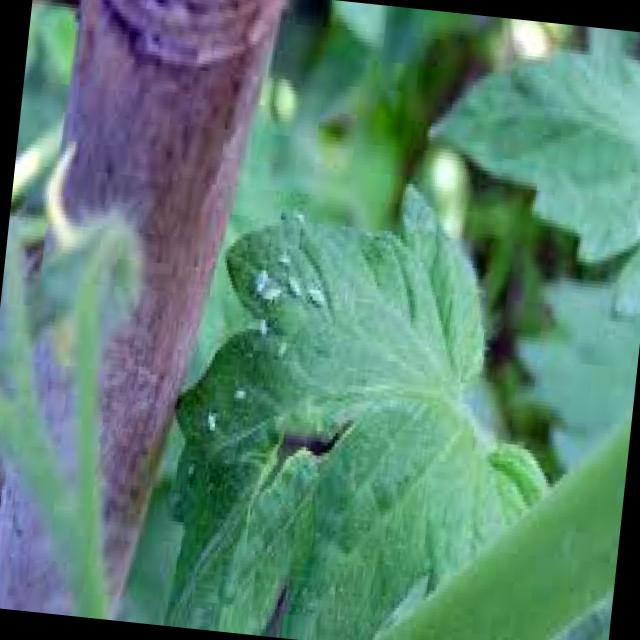aphid: (242, 254, 274, 299), (255, 273, 284, 307), (302, 275, 328, 312), (199, 400, 221, 438), (280, 265, 304, 299), (226, 376, 250, 406), (270, 331, 290, 364), (270, 240, 292, 270), (178, 451, 197, 481), (251, 308, 268, 340), (290, 199, 306, 225)
